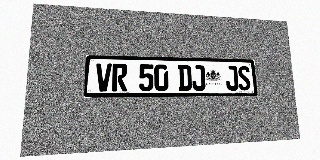0: (154, 64, 168, 91)
5: (139, 64, 154, 91)
D: (178, 65, 192, 91)
J: (191, 65, 205, 91), (225, 66, 239, 91)
R: (112, 63, 127, 91)
S: (237, 66, 251, 90)
V: (95, 63, 112, 92)
